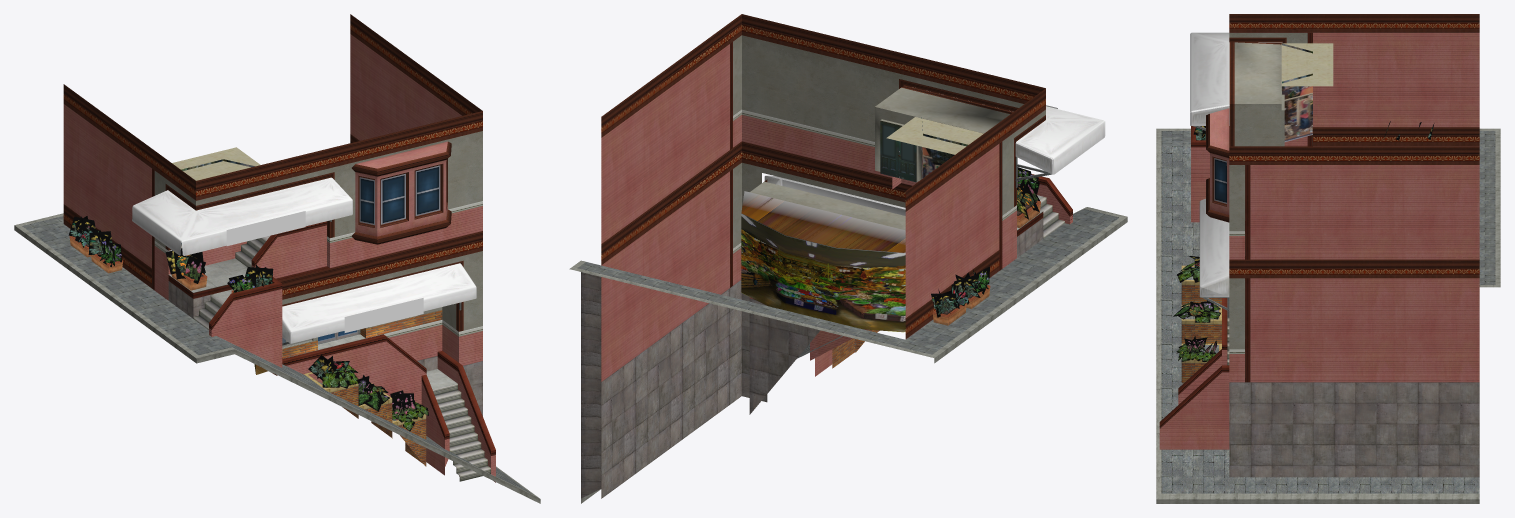
File: HouseB_Base-35.obj
3 views of the same model, side by side, from view 1: azimuth 30°, elevation 25°; view 2: azimuth 150°, elevation 25°; view 3: azimuth 270°, elevation 25° (orthographic). The views are drawn at different scales.
Parts seen in each view (by area): view 1: HouseB_Base-35; view 2: HouseB_Base-35; view 3: HouseB_Base-35.
Boxes of the visible parts, bbox=[...] form: HouseB_Base-35: bbox=[14, 14, 540, 503]; HouseB_Base-35: bbox=[569, 14, 1127, 503]; HouseB_Base-35: bbox=[1156, 14, 1500, 503].
Size of the model in its own units: 24.75 by 25.39 by 22.69.
